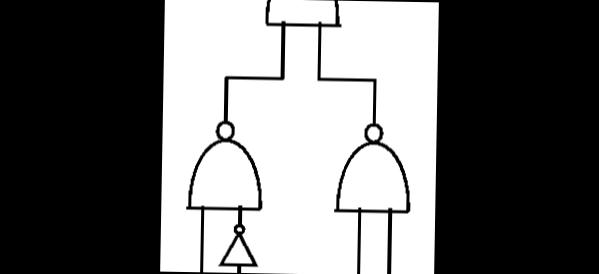nand: (328, 117, 414, 218), (182, 115, 268, 214), (259, 0, 345, 30)
not: (215, 220, 263, 271)
